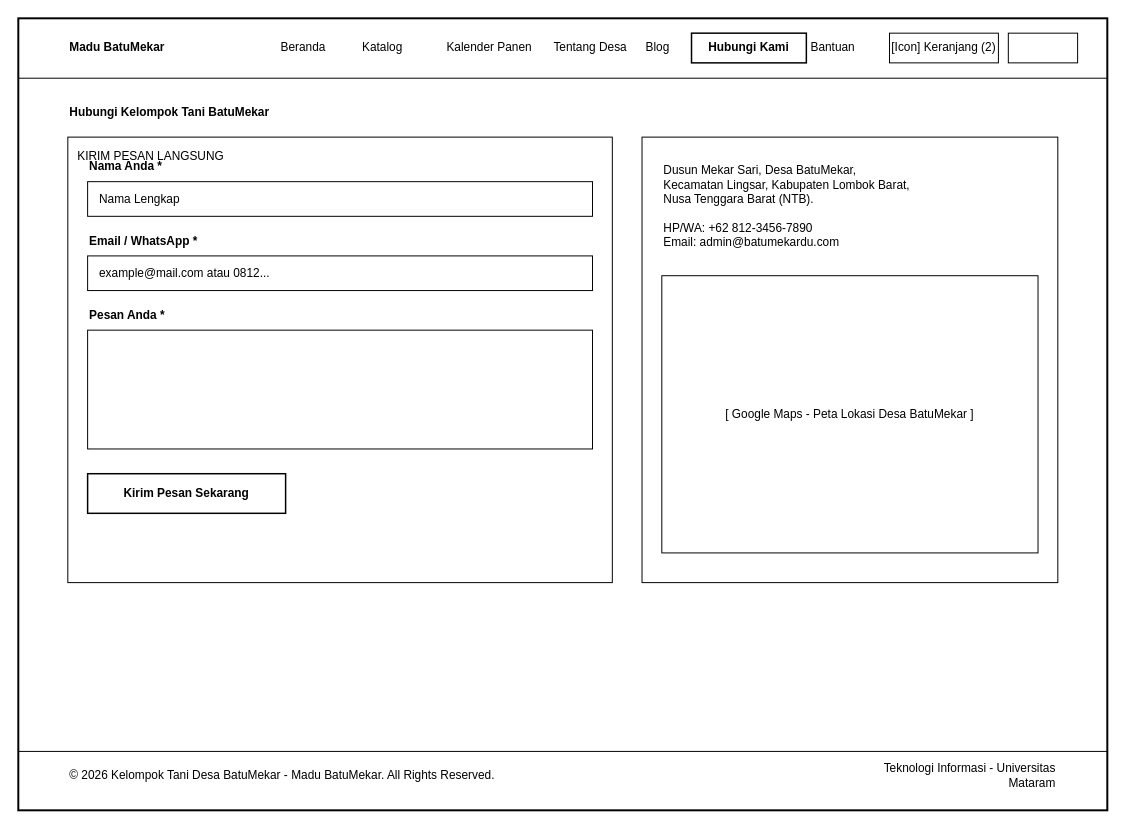
This 1125x828 diagram has some shape labels left out. The shapes that lost their labels are listed below. From the top down, each one's box as (x1, y1, x2, y2) in pixels, then its label:
(1007, 32, 1078, 63): [Icon] Akun
(641, 136, 1058, 583): INFORMASI KONTOR & LOKASI DESA
(87, 329, 593, 449): Tulis pertanyaan Anda di sini...
